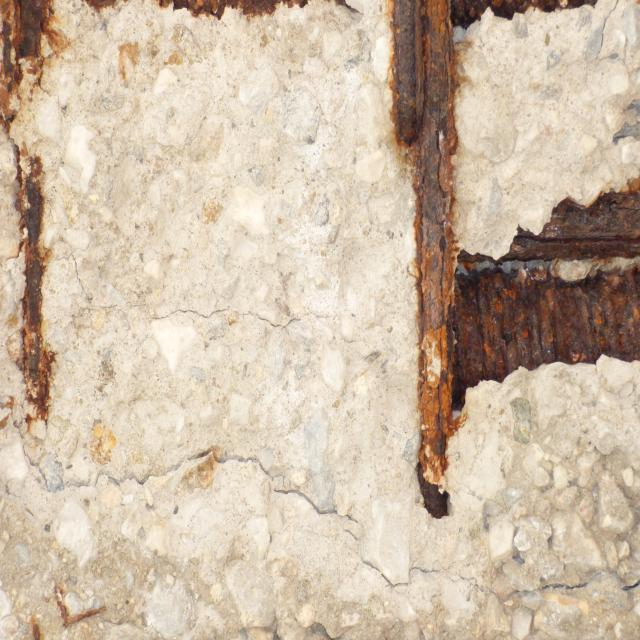corrosion: (379, 0, 640, 525), (0, 0, 69, 449), (81, 0, 363, 105), (18, 576, 111, 640), (175, 434, 232, 503), (84, 400, 125, 472)
